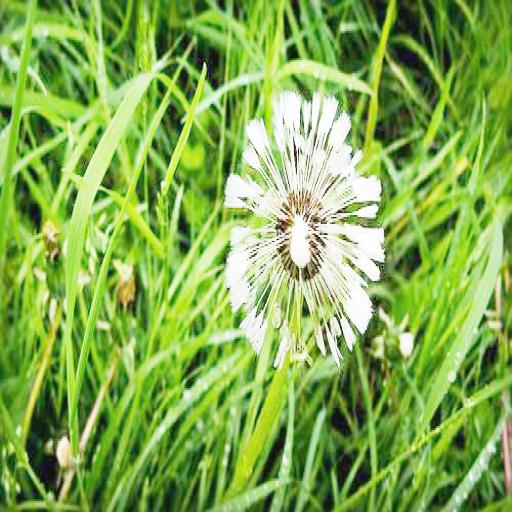dandelion: (226, 95, 380, 364)
